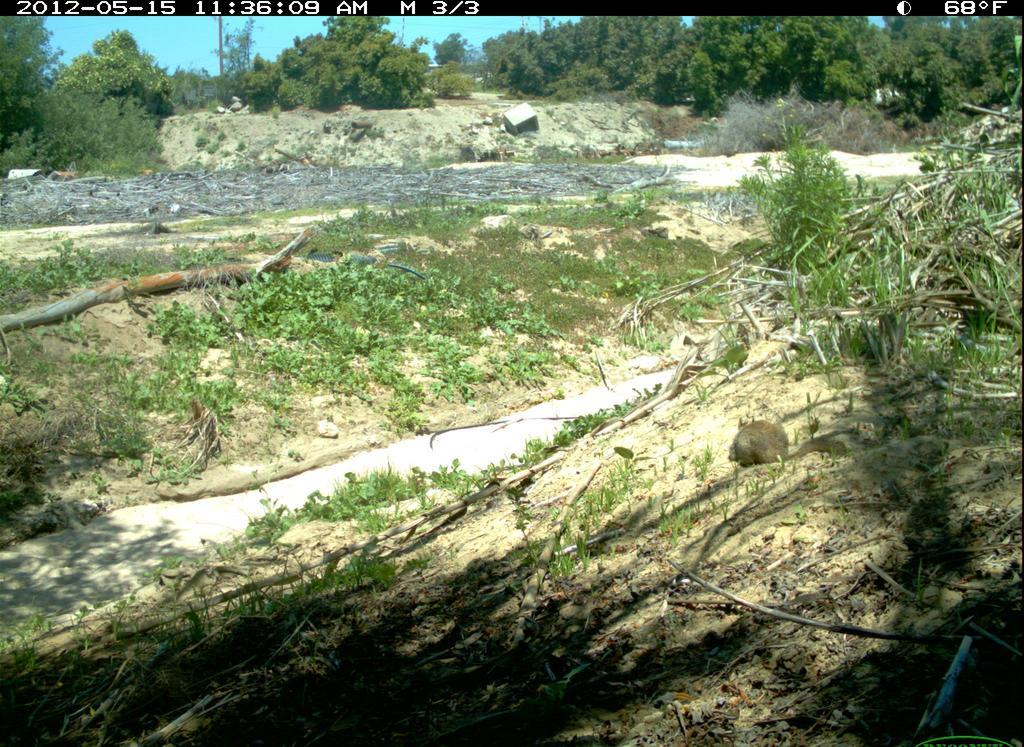squirrel: (729, 408, 852, 471)
